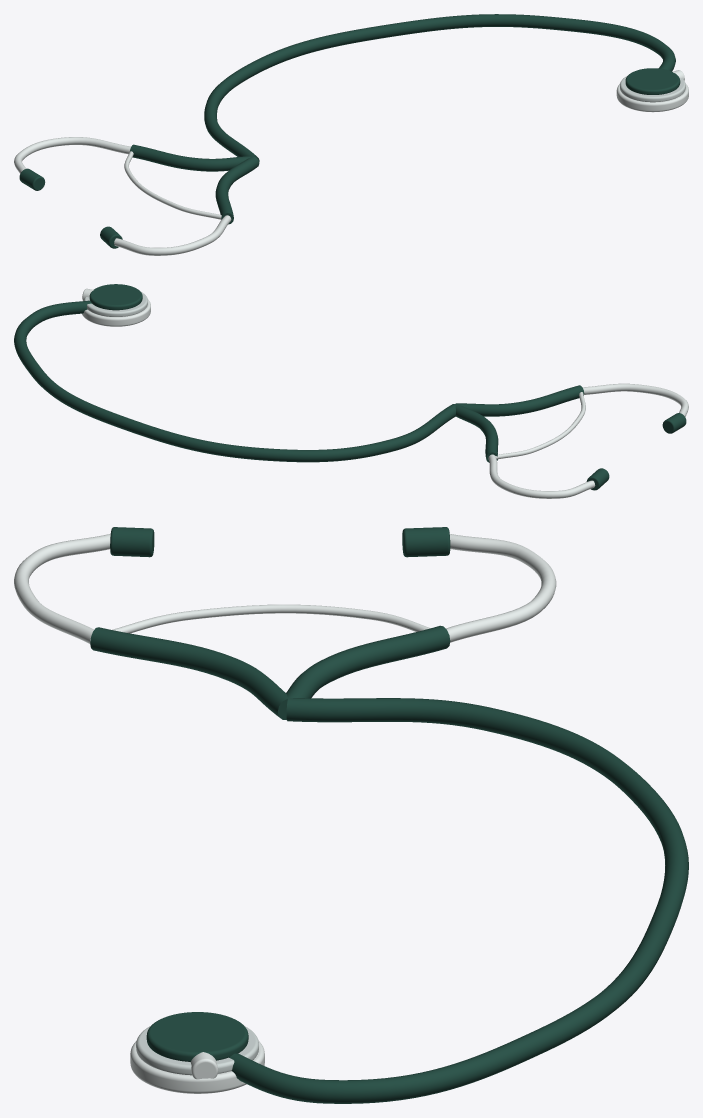
File: stethoscope.glb
3 renders of one model, top to bottom at view 1: azimuth 30°, elevation 25°; view 2: azimuth 150°, elevation 25°; view 3: azimuth 270°, elevation 25°, orthographic. The views are drawn at different scales.
Parts seen in each view (by area): view 1: Stethoscope | continuous flexible tube | exported.001, Stethoscope | left Y branch | exported.001, Stethoscope | chestpiece top | exported.001, Stethoscope | lower steel binaural | exported.001, Stethoscope | upper steel binaural | exported.001, Stethoscope | right Y branch | exported.001, Stethoscope | chestpiece lower flange | exported.001, Stethoscope | binaural spring | exported.001, Stethoscope | diaphragm rim | exported.001, Stethoscope | upper soft ear tip | exported.001; view 2: Stethoscope | continuous flexible tube | exported.001, Stethoscope | right Y branch | exported.001, Stethoscope | chestpiece top | exported.001, Stethoscope | upper steel binaural | exported.001, Stethoscope | lower steel binaural | exported.001, Stethoscope | left Y branch | exported.001, Stethoscope | chestpiece lower flange | exported.001, Stethoscope | binaural spring | exported.001, Stethoscope | diaphragm rim | exported.001, Stethoscope | lower soft ear tip | exported.001; view 3: Stethoscope | continuous flexible tube | exported.001, Stethoscope | right Y branch | exported.001, Stethoscope | left Y branch | exported.001, Stethoscope | chestpiece top | exported.001, Stethoscope | upper steel binaural | exported.001, Stethoscope | lower steel binaural | exported.001, Stethoscope | binaural spring | exported.001, Stethoscope | chestpiece lower flange | exported.001, Stethoscope | diaphragm rim | exported.001, Stethoscope | upper soft ear tip | exported.001, Stethoscope | lower soft ear tip | exported.001.
Boxes of the visible parts, bbox=[...] form: Stethoscope | continuous flexible tube | exported.001: bbox=[204, 14, 675, 161]; Stethoscope | left Y branch | exported.001: bbox=[130, 144, 252, 171]; Stethoscope | chestpiece top | exported.001: bbox=[625, 68, 680, 94]; Stethoscope | lower steel binaural | exported.001: bbox=[114, 215, 231, 255]; Stethoscope | upper steel binaural | exported.001: bbox=[14, 137, 130, 173]; Stethoscope | right Y branch | exported.001: bbox=[215, 156, 259, 224]; Stethoscope | chestpiece lower flange | exported.001: bbox=[616, 84, 688, 112]; Stethoscope | binaural spring | exported.001: bbox=[124, 151, 221, 219]; Stethoscope | diaphragm rim | exported.001: bbox=[620, 76, 685, 102]; Stethoscope | upper soft ear tip | exported.001: bbox=[19, 168, 45, 190]; Stethoscope | continuous flexible tube | exported.001: bbox=[14, 300, 455, 462]; Stethoscope | right Y branch | exported.001: bbox=[455, 385, 584, 416]; Stethoscope | chestpiece top | exported.001: bbox=[89, 284, 142, 310]; Stethoscope | upper steel binaural | exported.001: bbox=[488, 454, 595, 498]; Stethoscope | lower steel binaural | exported.001: bbox=[582, 383, 688, 416]; Stethoscope | left Y branch | exported.001: bbox=[455, 404, 498, 462]; Stethoscope | chestpiece lower flange | exported.001: bbox=[82, 299, 150, 326]; Stethoscope | binaural spring | exported.001: bbox=[495, 392, 585, 459]; Stethoscope | diaphragm rim | exported.001: bbox=[84, 291, 147, 316]; Stethoscope | lower soft ear tip | exported.001: bbox=[662, 413, 686, 433]; Stethoscope | continuous flexible tube | exported.001: bbox=[229, 698, 688, 1103]; Stethoscope | right Y branch | exported.001: bbox=[90, 627, 287, 719]; Stethoscope | left Y branch | exported.001: bbox=[286, 625, 450, 698]; Stethoscope | chestpiece top | exported.001: bbox=[146, 1012, 248, 1061]; Stethoscope | upper steel binaural | exported.001: bbox=[446, 534, 556, 642]; Stethoscope | lower steel binaural | exported.001: bbox=[14, 534, 110, 643]; Stethoscope | binaural spring | exported.001: bbox=[112, 604, 430, 633]; Stethoscope | chestpiece lower flange | exported.001: bbox=[130, 1041, 264, 1093]; Stethoscope | diaphragm rim | exported.001: bbox=[136, 1026, 258, 1075]; Stethoscope | upper soft ear tip | exported.001: bbox=[402, 527, 450, 557]; Stethoscope | lower soft ear tip | exported.001: bbox=[110, 527, 154, 557].
Bounding box in the file's own units: 0.6918 × 0.02 × 0.3513.
